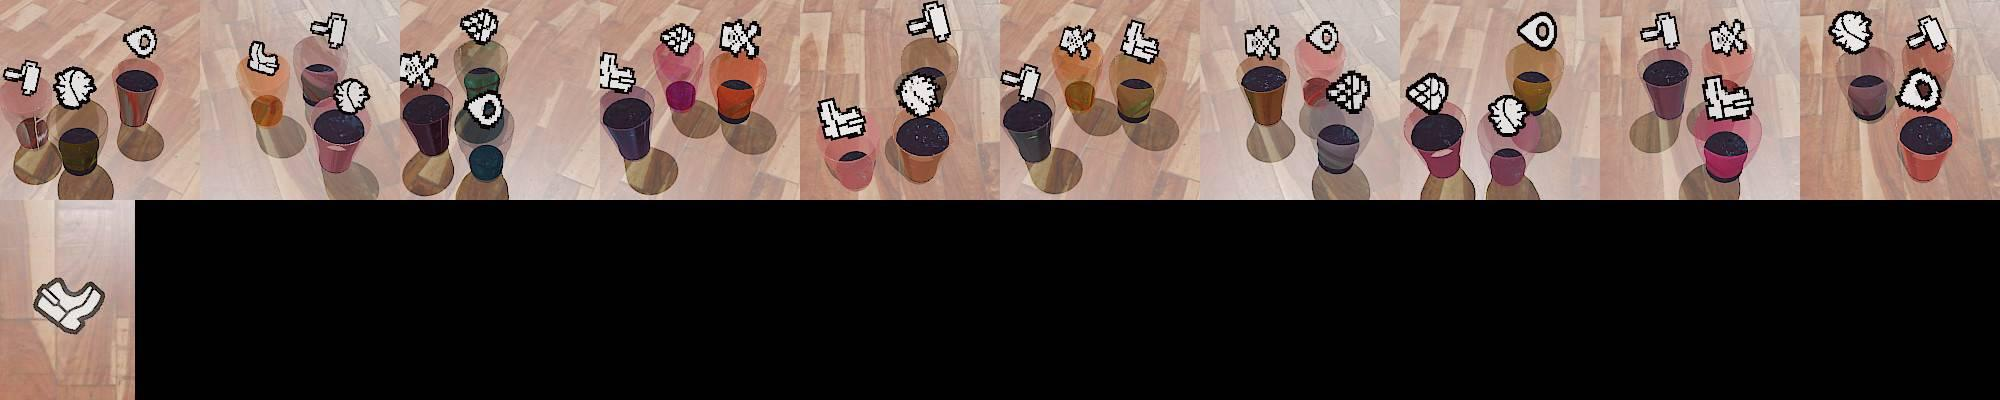icon: (33, 276, 106, 334), (1702, 74, 1755, 122), (818, 96, 867, 140), (1324, 68, 1371, 113), (1895, 66, 1943, 112), (1827, 10, 1874, 55), (897, 70, 941, 117), (1119, 18, 1161, 65), (52, 66, 97, 110), (907, 0, 953, 42), (1486, 93, 1529, 136), (1406, 73, 1450, 115), (1515, 11, 1559, 54), (999, 61, 1041, 104), (718, 19, 763, 60), (597, 51, 636, 94), (398, 48, 437, 92), (1908, 15, 1952, 54), (1708, 17, 1749, 56), (1, 59, 42, 98), (1639, 11, 1681, 50), (459, 8, 500, 46), (309, 11, 347, 51), (1244, 23, 1282, 61), (466, 90, 505, 127), (1059, 23, 1096, 60), (1304, 19, 1341, 56), (334, 78, 371, 115), (659, 22, 696, 57), (247, 39, 282, 78), (122, 25, 157, 60)
